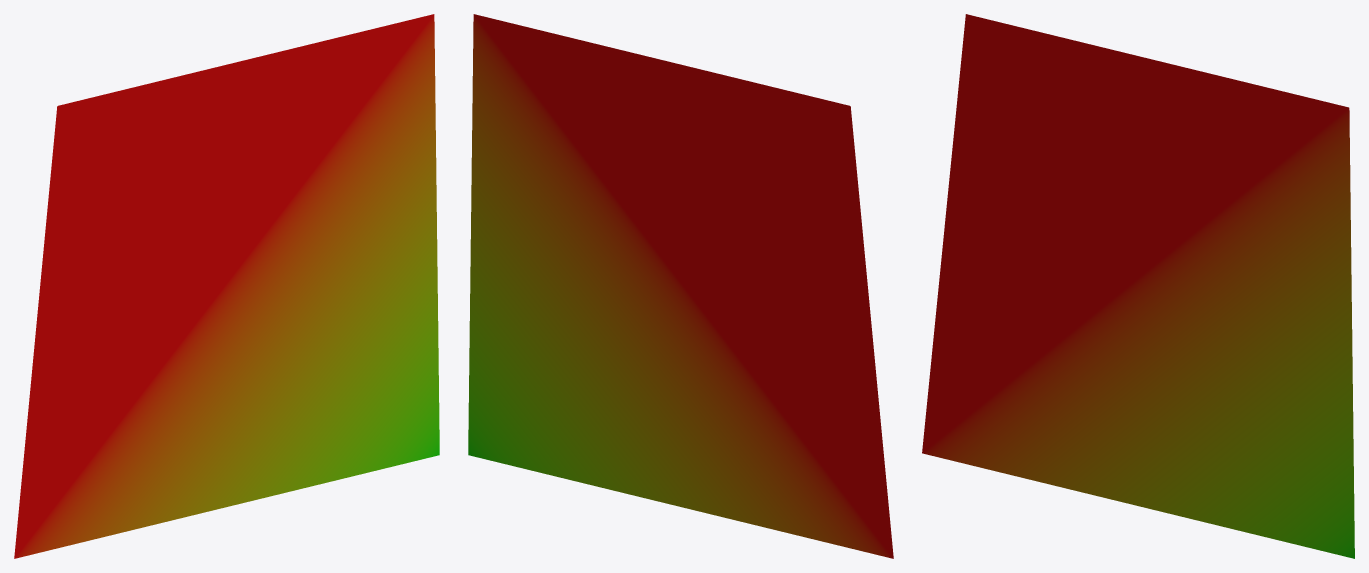
File: Var10_LOD4.fbx
3 renders of one model, left to right at view 1: azimuth 30°, elevation 25°; view 2: azimuth 150°, elevation 25°; view 3: azimuth 330°, elevation 25°, orthographic.
Visible parts, largest first — view 1: _8ba8_Var10_LOD4; view 2: _8ba8_Var10_LOD4; view 3: _8ba8_Var10_LOD4.
Part boxes in pixels (x1=…): _8ba8_Var10_LOD4: x1=14, y1=14, x2=439, y2=558; _8ba8_Var10_LOD4: x1=468, y1=14, x2=893, y2=558; _8ba8_Var10_LOD4: x1=922, y1=14, x2=1354, y2=558.
Size of the model in its own units: 27.27 by 27.09 by 3.99e-06.
